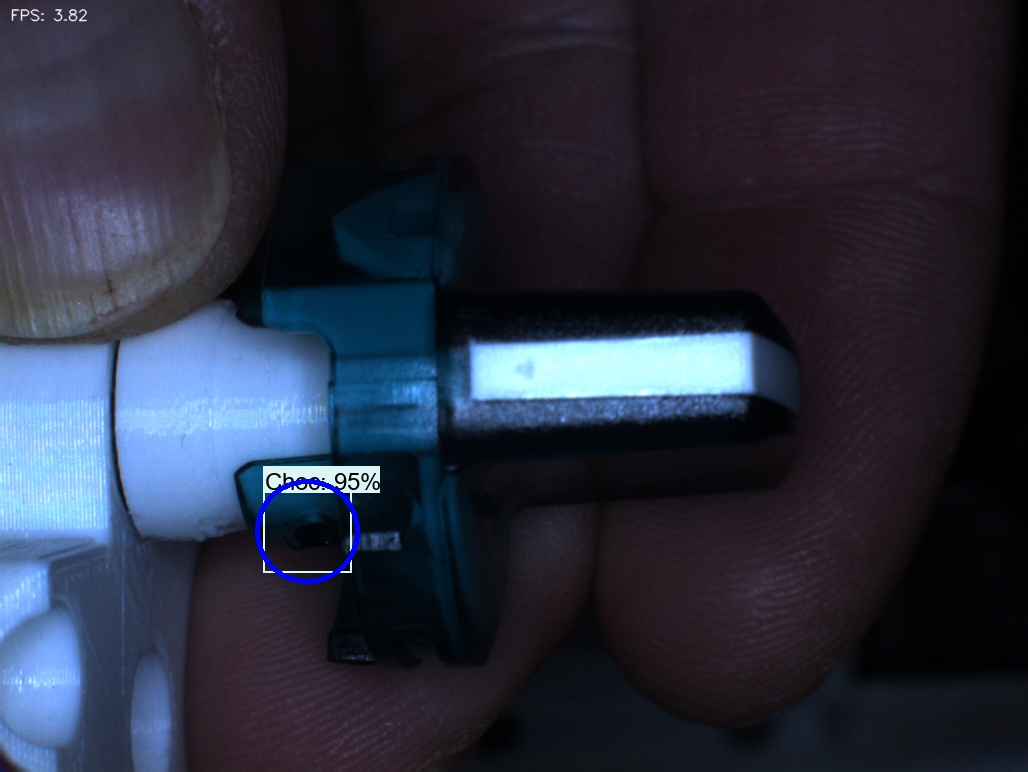DentOk: (309, 181, 374, 282)
